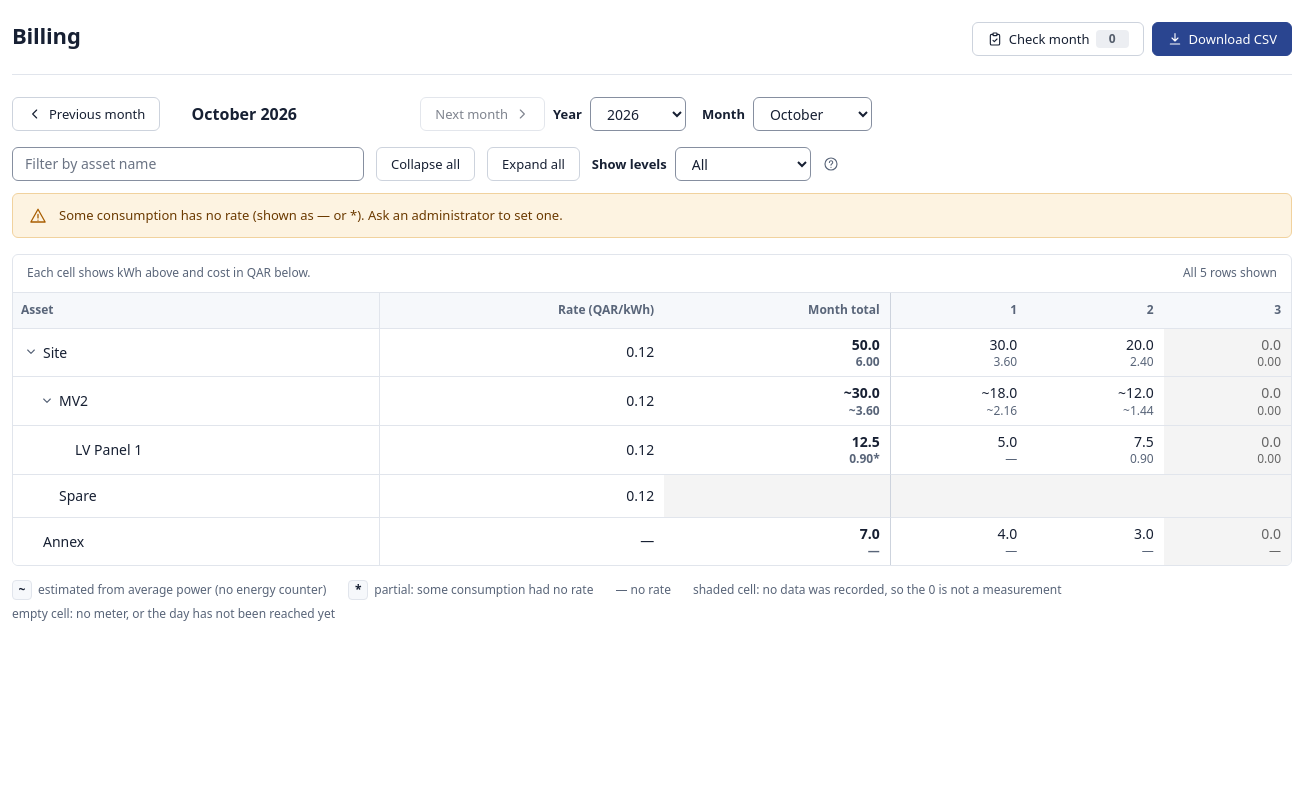
it: BillingPage › the Year and Month selects › pull the month back into range when the year changes
Check: the column heading "Site" is shown, box [13, 329, 380, 377]
Select "January" in the dropdown labelled "Month" at (812, 114), box [753, 97, 872, 131]
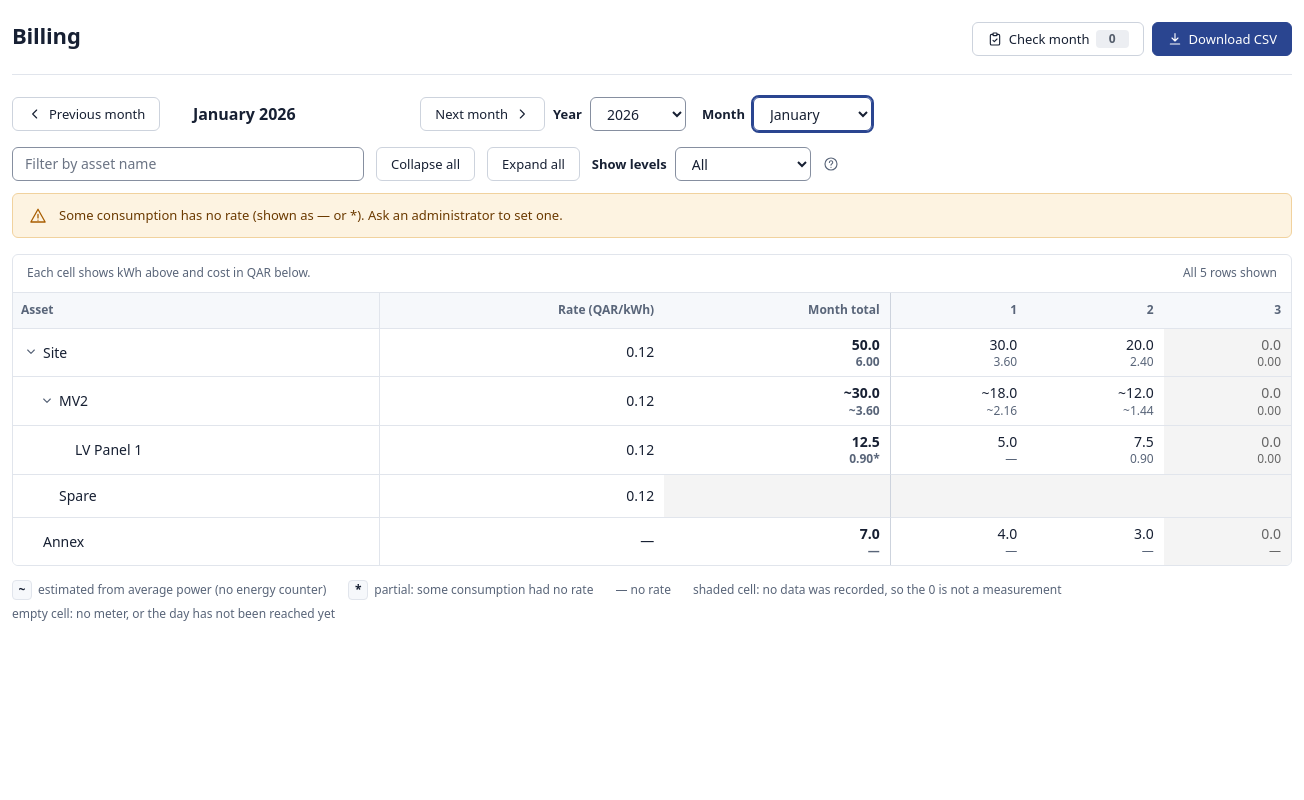
Check: the text "January 2026" is shown, box [193, 103, 296, 125]
Select "2025" in the dropdown labelled "Year" at (638, 114), box [590, 97, 686, 131]
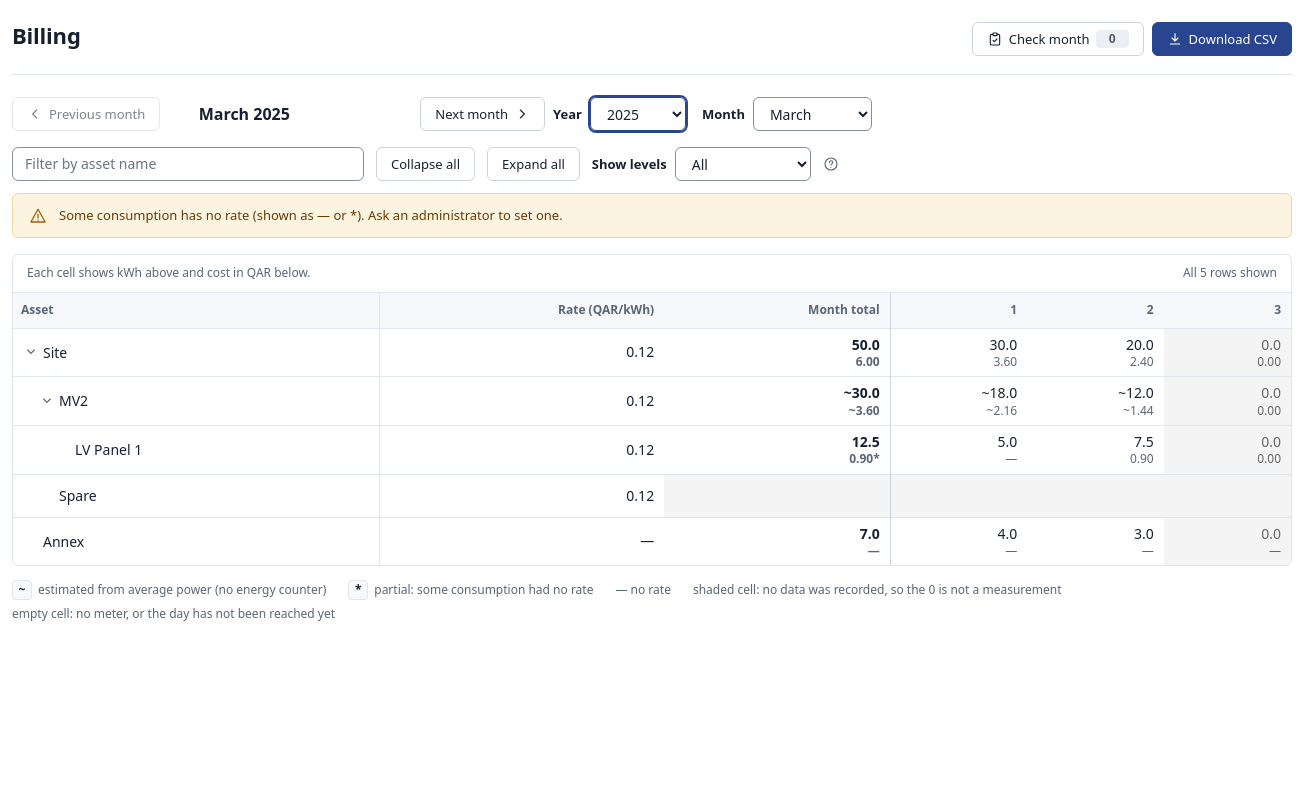
Check: the text "March 2025" is shown, box [199, 103, 290, 125]
Select "December" in the dropdown labelled "Month" at (812, 114), box [753, 97, 872, 131]
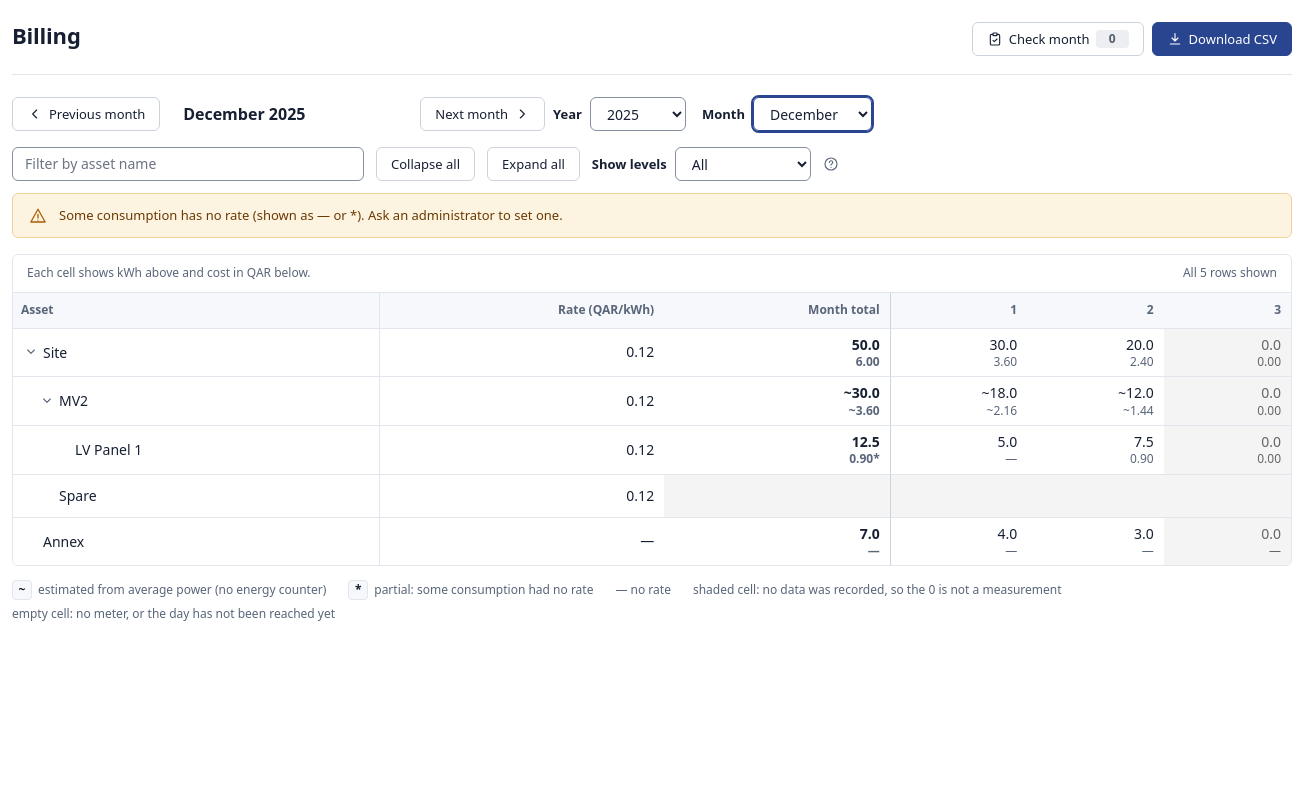
Select "2026" in the dropdown labelled "Year" at (638, 114), box [590, 97, 686, 131]
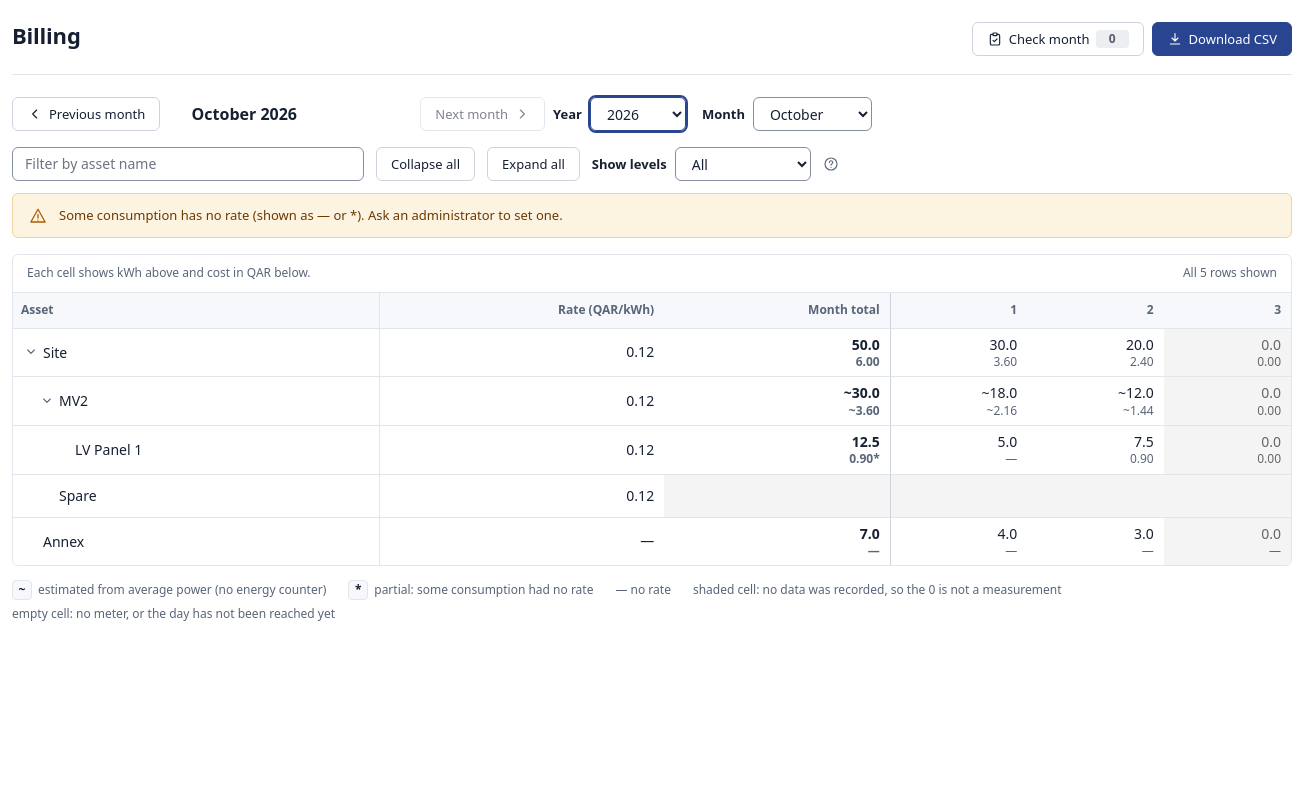
Check: the text "October 2026" is shown, box [192, 103, 297, 125]
Check: the button "Next month" is disabled, box [420, 97, 545, 131]
